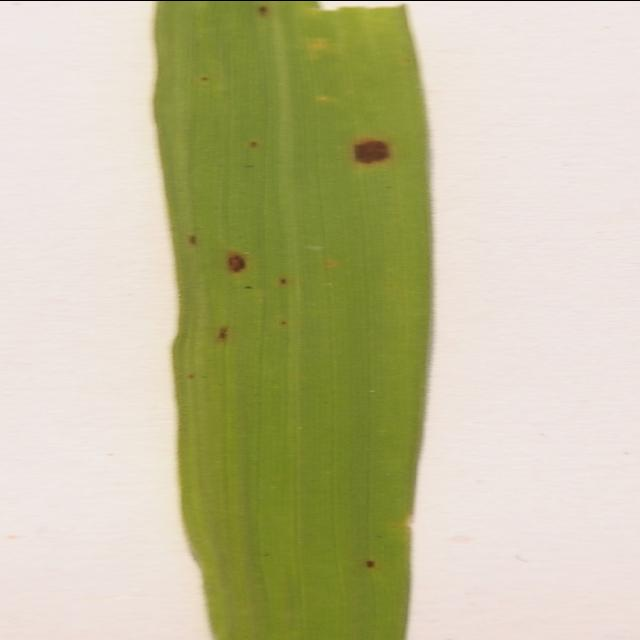Unhealthy: (346, 134, 395, 167), (226, 248, 253, 275), (360, 558, 383, 569), (216, 325, 231, 340), (253, 4, 270, 16), (245, 140, 262, 147), (198, 74, 212, 81), (276, 277, 290, 284), (189, 234, 197, 243), (276, 319, 290, 324)
